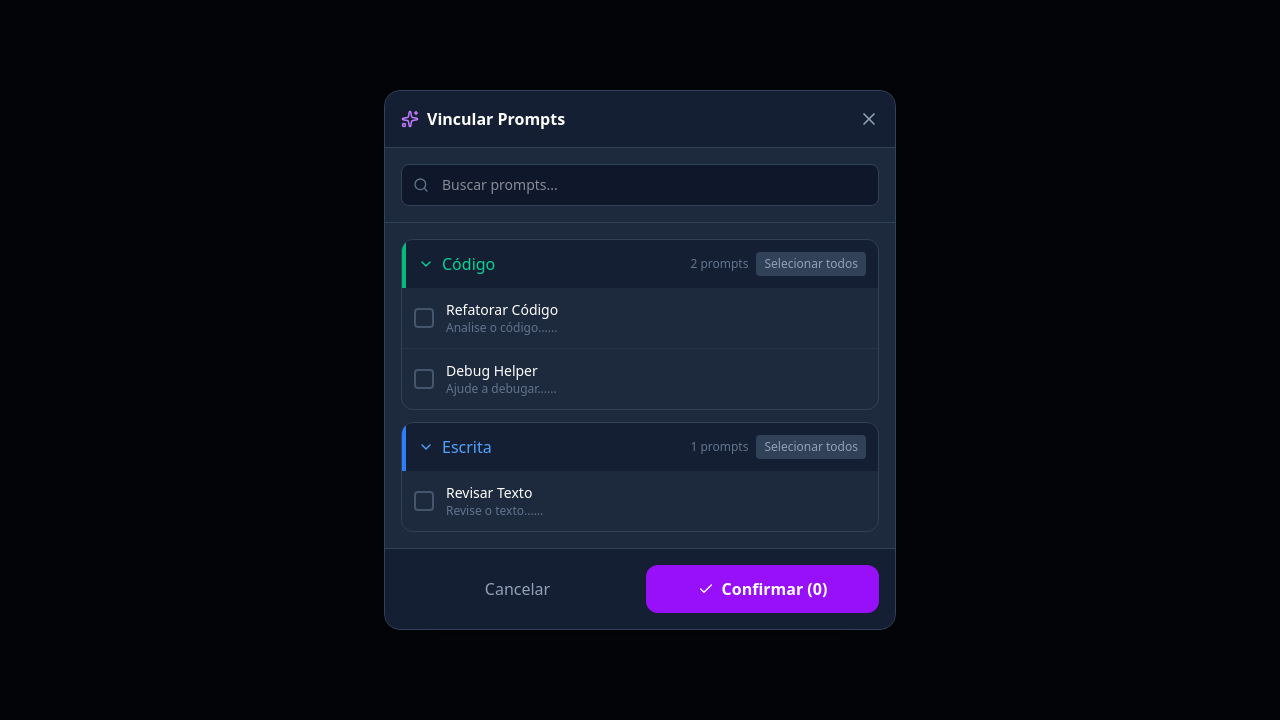
MultiPromptSelector › Category interactions › collapses/expands category on click
expect the text "Refatorar Código" is shown: met, box [446,300,558,319]
# Click category header to collapse
Step 1. Click the text "Código" → (469, 264), box [442,253,495,275]
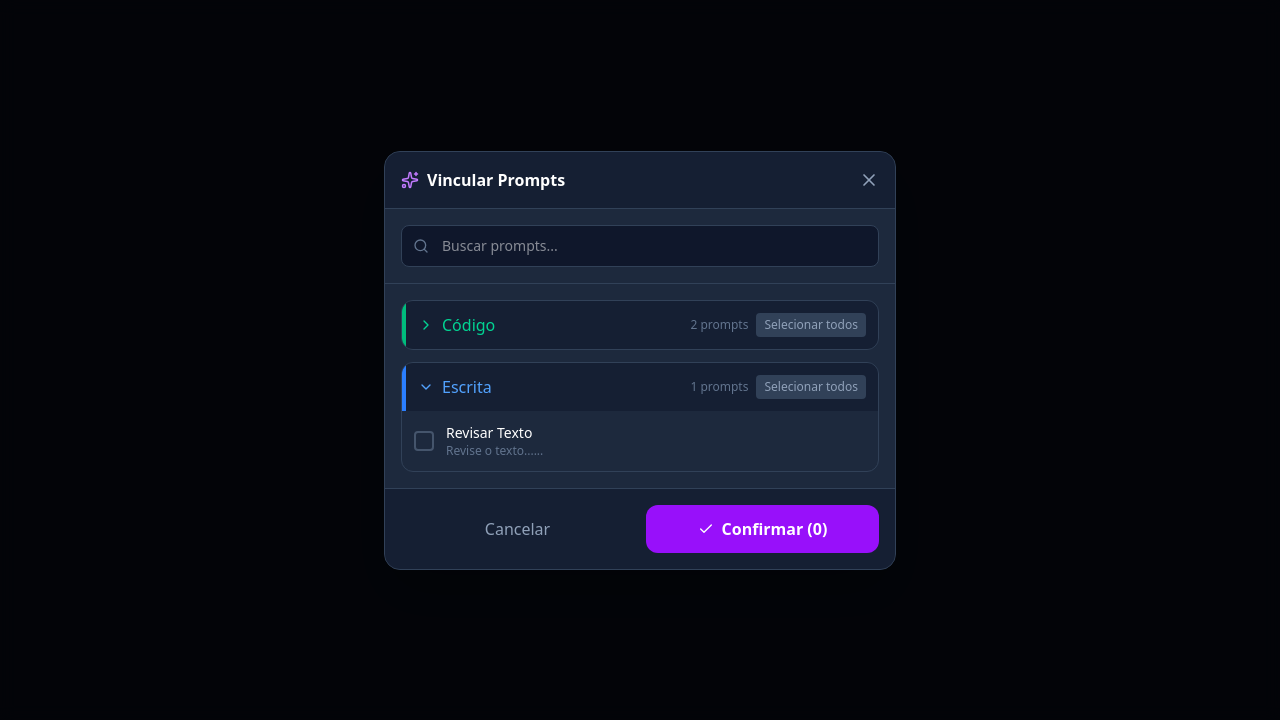
expect the text "Refatorar Código" is gone: met
